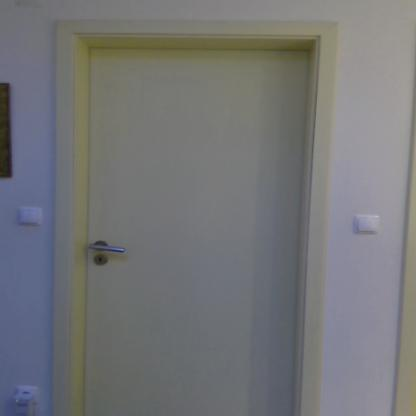door: (86, 43, 297, 416)
lever: (89, 244, 127, 254)
